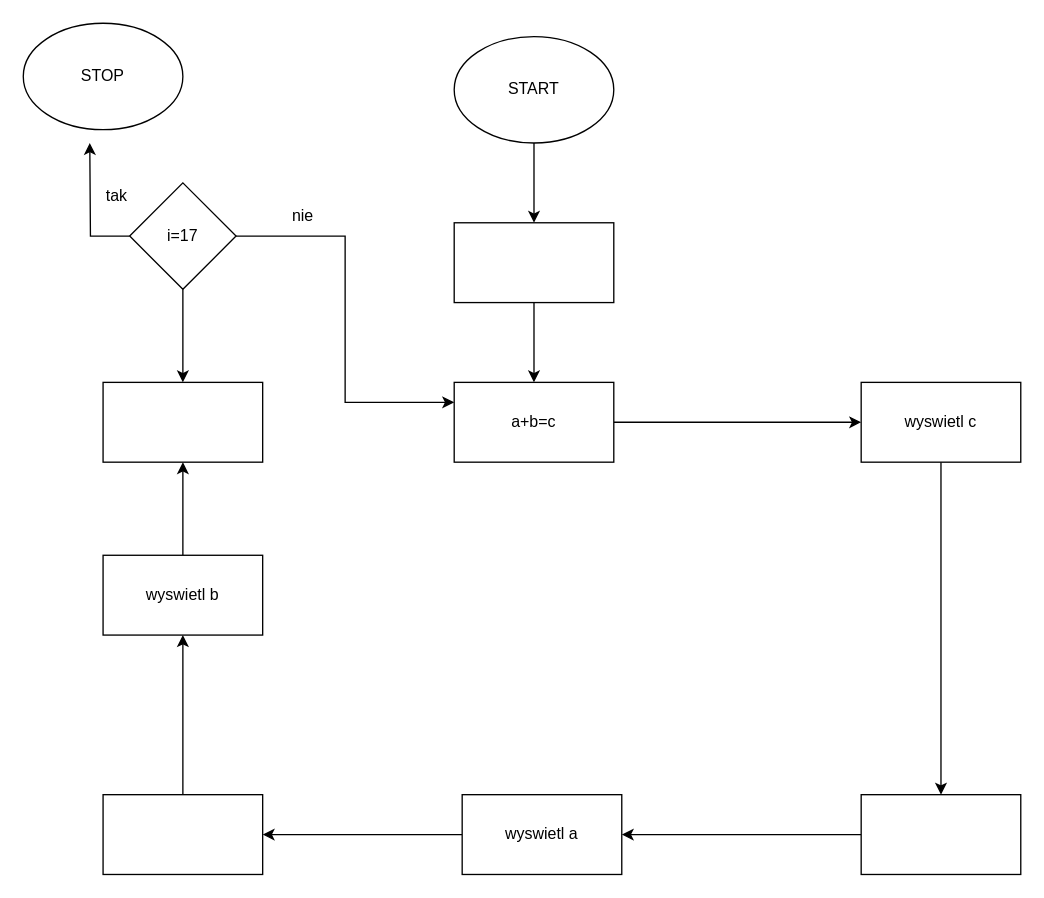
Image size: 1044x898. Some labels were removed from this diagram. The box of each missing label's shape, as (x1, y1, x2, y2) in pixels:
a+c=b: (102, 793, 263, 874)
b+c=a: (860, 793, 1021, 874)
i+1: (102, 381, 263, 462)
podaj a podaj b i=0: (453, 221, 614, 303)
